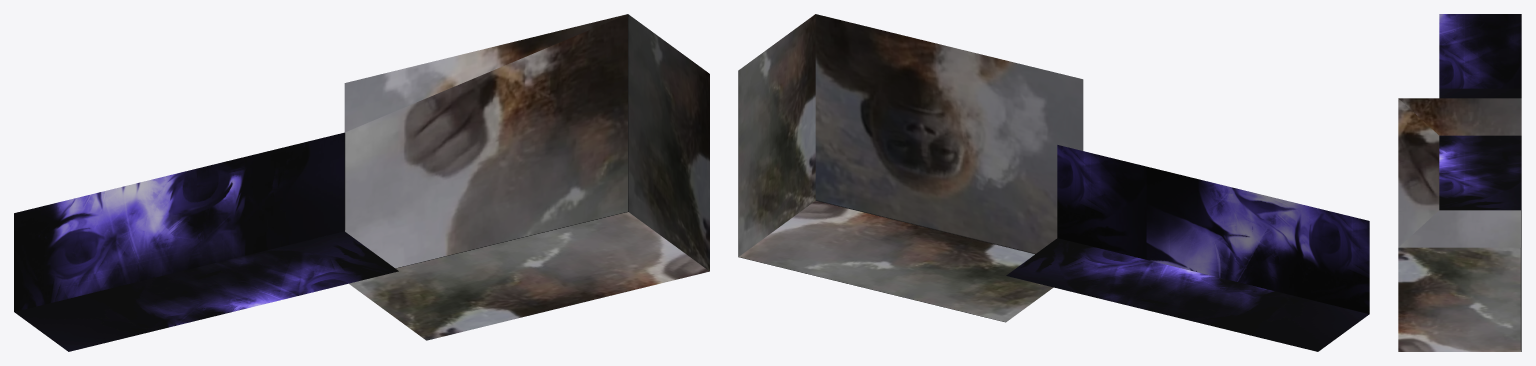
File: anvil_test.glb
3 renders of one model, left to right at view 1: azimuth 30°, elevation 25°; view 2: azimuth 150°, elevation 25°; view 3: azimuth 270°, elevation 25°, orthographic. The views are drawn at different scales.
Visible parts, largest first — view 1: Box; view 2: Box; view 3: Box.
Part boxes in pixels (<box>): Box: <box>14,14,709,351</box>; Box: <box>738,14,1369,351</box>; Box: <box>1398,14,1521,351</box>.
Size of the model in its own units: 13 by 4 by 3.
2 materials, 2 textured.
